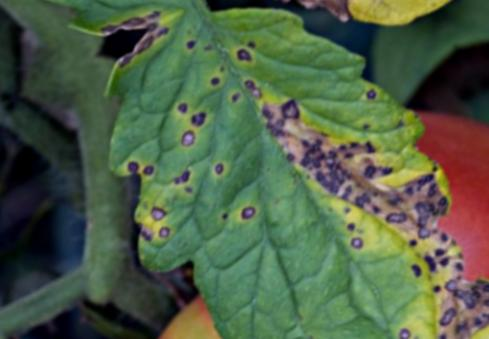Tomato Septoria leaf spot: (71, 0, 489, 339), (231, 0, 438, 90)
